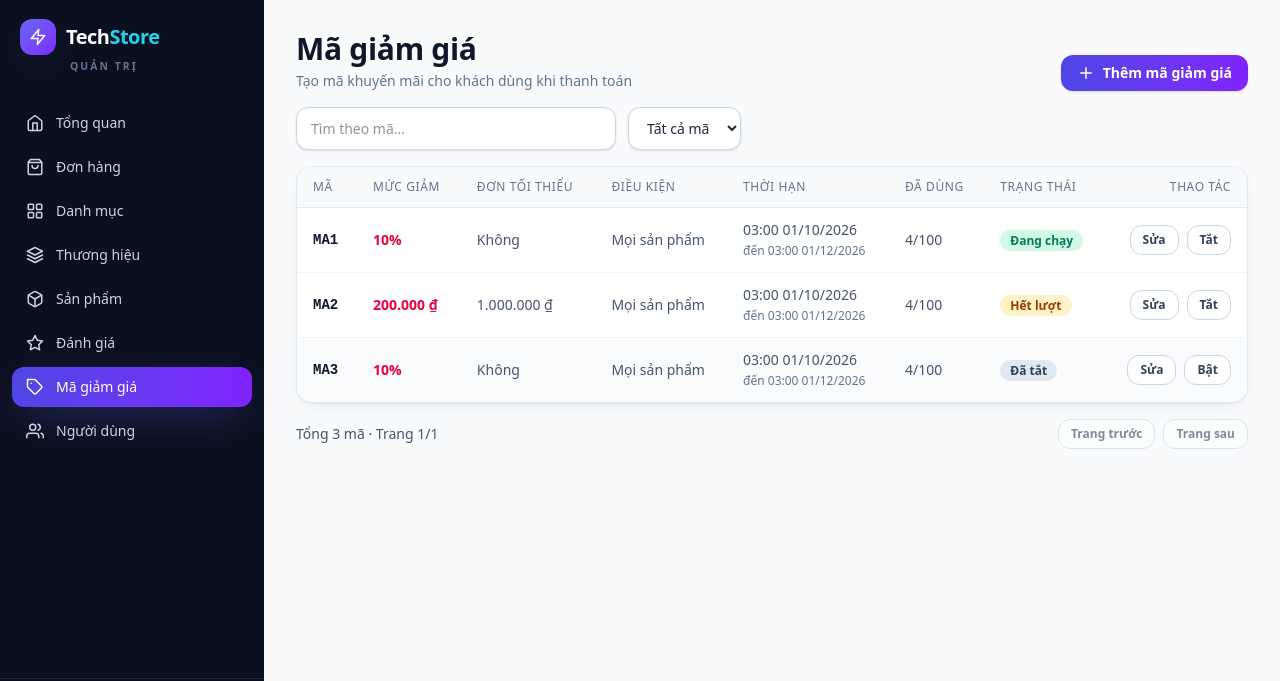
Test: Tạo mã giảm giá (US-24 AC1) › kiểm tra dữ liệu trước khi gửi: mã, mức giảm, lượt, thời hạn
Expected: the table is shown, [297,167,1247,402]
Click the button "Thêm mã giảm giá" at (1154, 73), box [1061,55,1248,91]
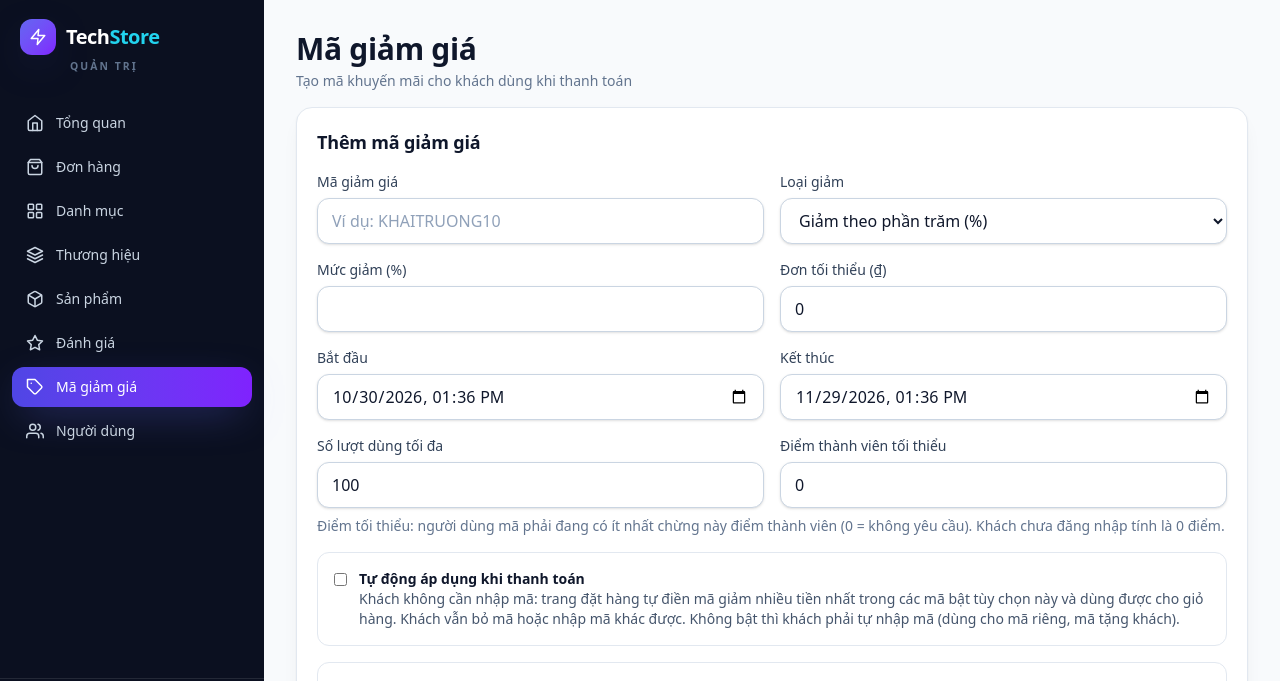
Type "a b" into the field labelled "Mã giảm giá" at (540, 221), box [317,198,764,244]
Type "150" into the field labelled "Mức giảm (%)" at (540, 309), box [317,286,764,332]
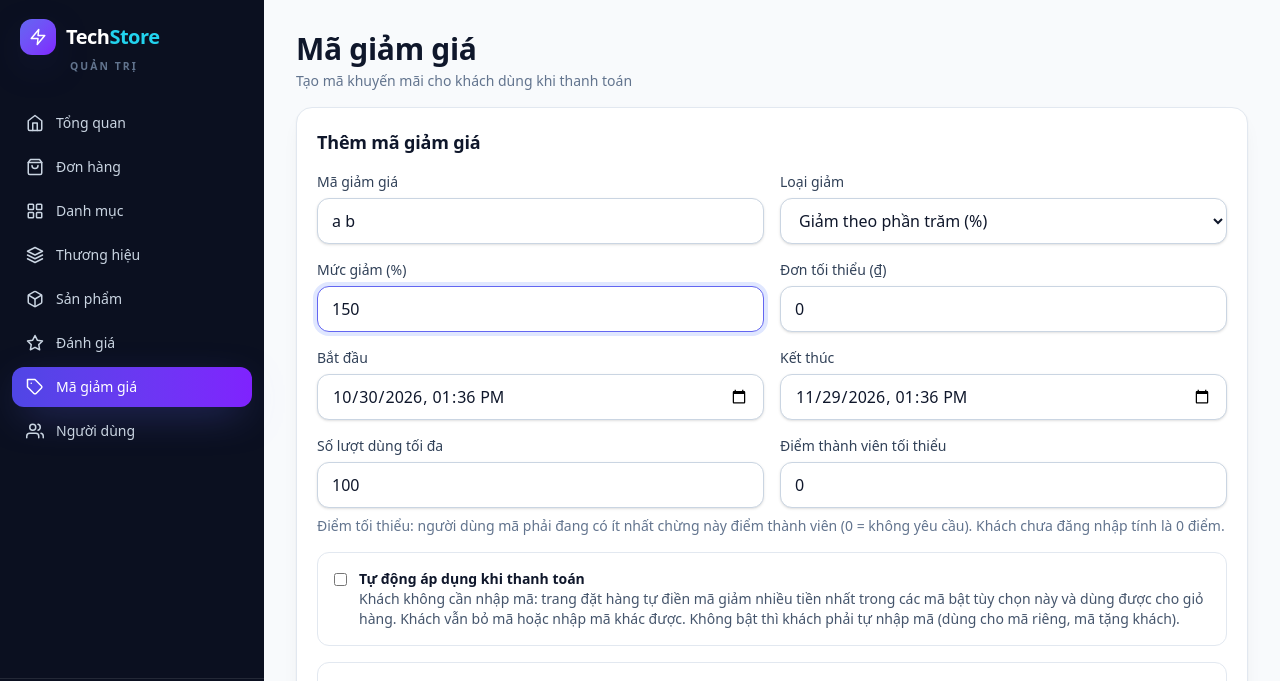
Replace the text in the field labelled "Số lượt dùng tối đa" with "0" at (540, 485), box [317,462,764,508]
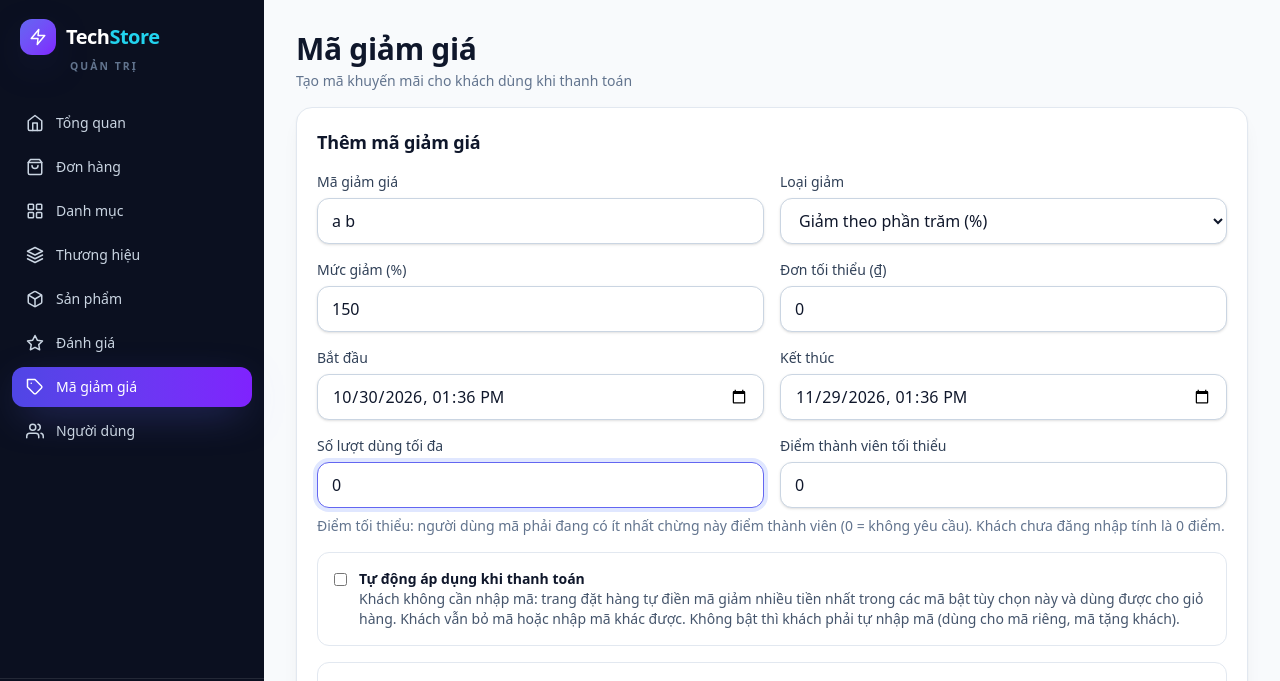
Replace the text in the field labelled "Bắt đầu" with "2026-11-10T08:00" at (540, 397), box [317,374,764,420]
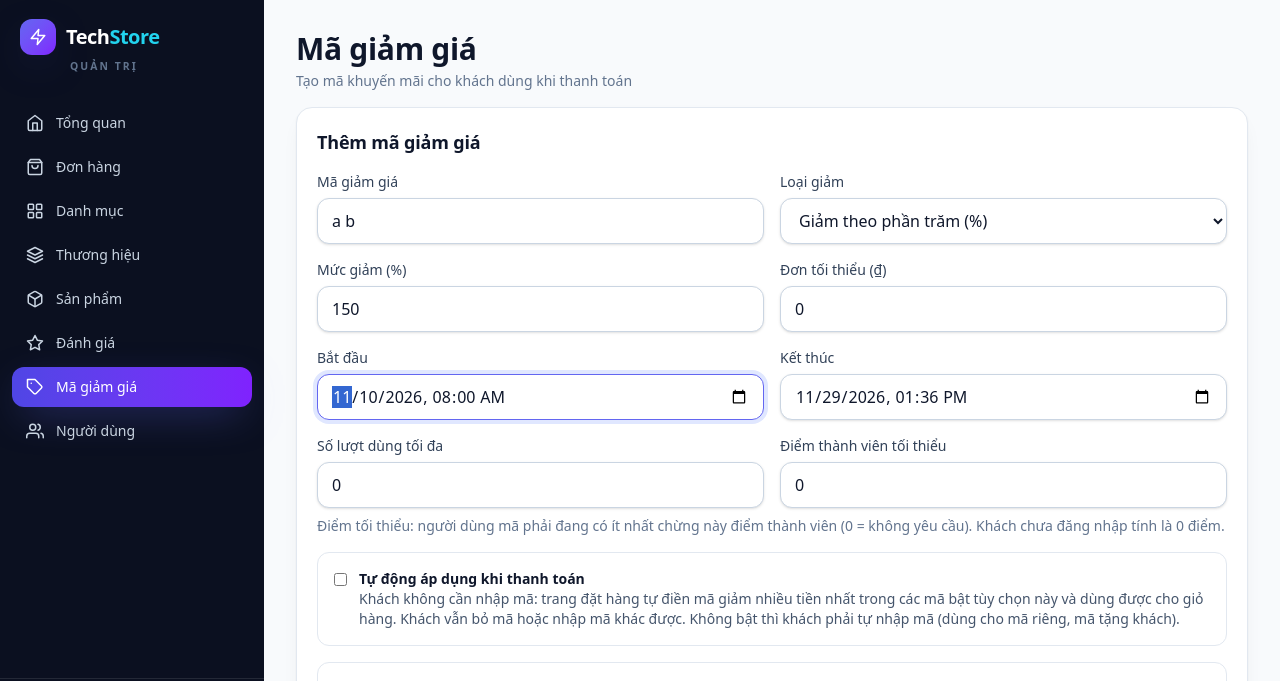
Replace the text in the field labelled "Kết thúc" with "2026-11-01T08:00" at (1004, 397), box [780,374,1227,420]
(page scrolled)
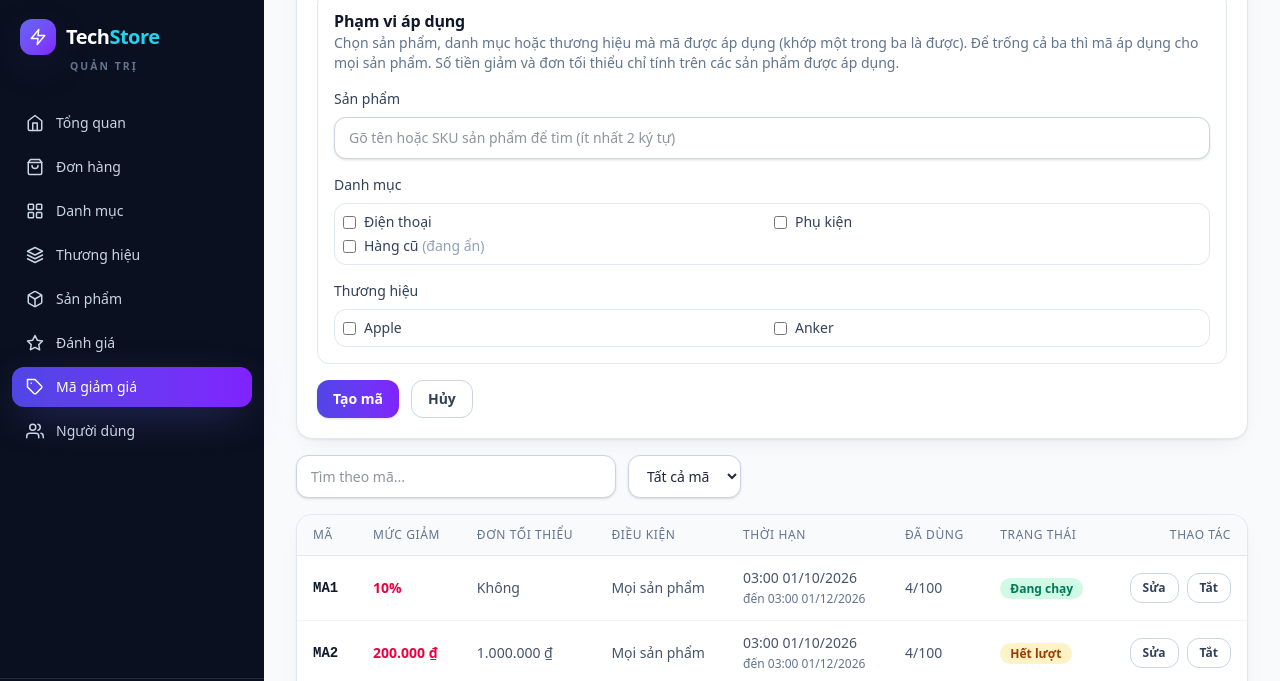
Click the button "Tạo mã" at (358, 399), box [317,380,399,418]
(page scrolled)
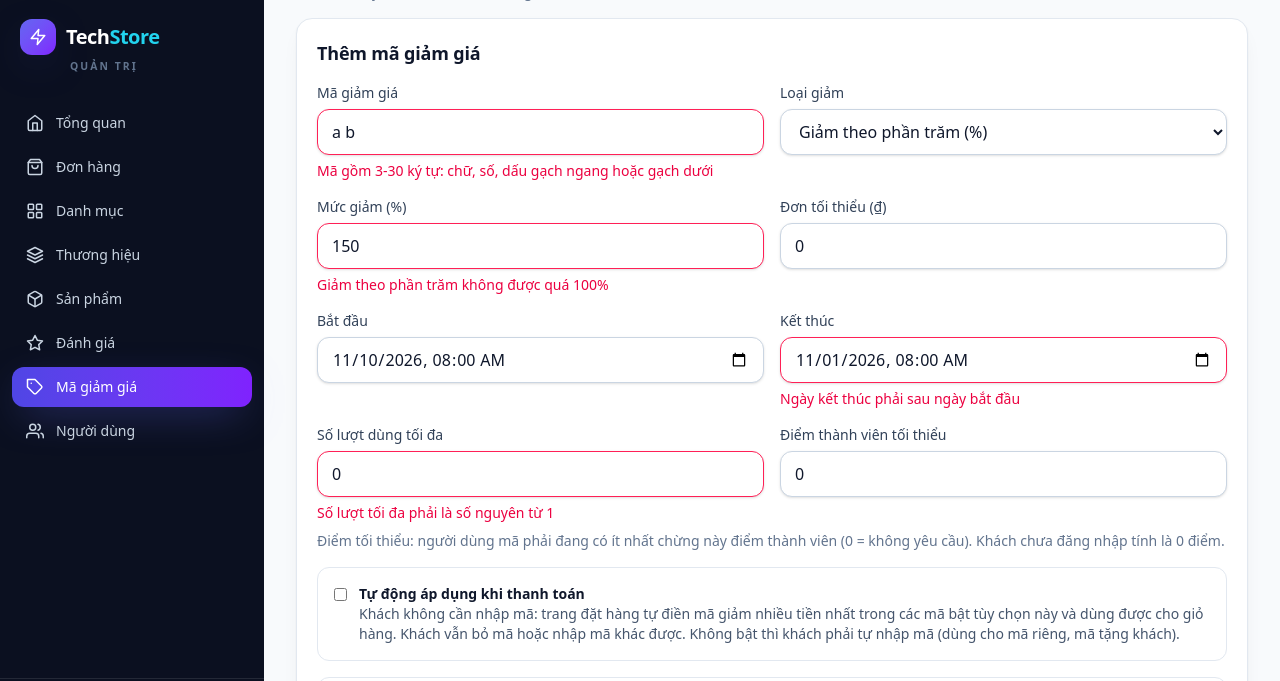
Now the text "Mã gồm 3-30 ký tự: chữ, số, dấu gạch ngang hoặc gạch dưới" is shown, box [317,161,764,181]
Now the text "Giảm theo phần trăm không được quá 100%" is shown, box [317,275,609,294]
Now the text "Số lượt tối đa phải là số nguyên từ 1" is shown, box [317,503,554,522]
